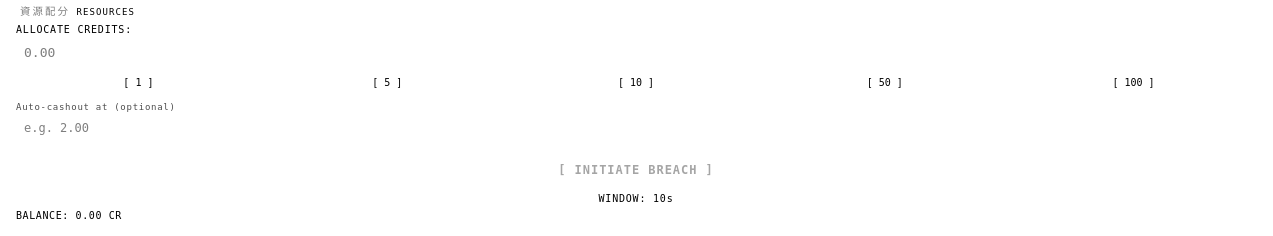
it: BetForm component › Join Round button disabled state › button is enabled when a valid positive wager is entered
Type "100" into the number field named "Wager" at (636, 53), box [16,39,1256,67]
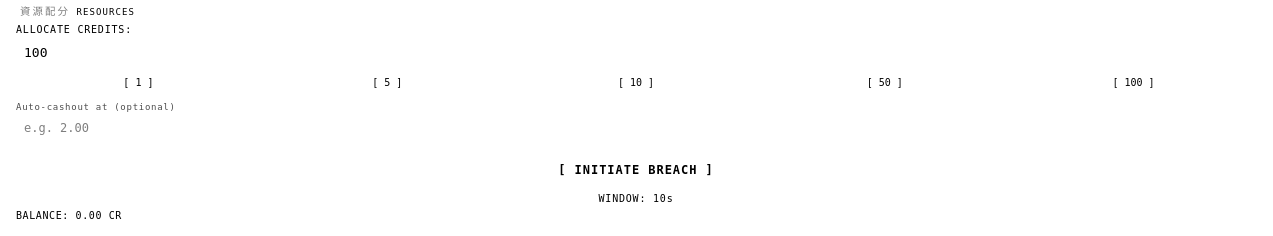
Now the button "[ INITIATE BREACH ]" is enabled, box [16,153,1256,186]
